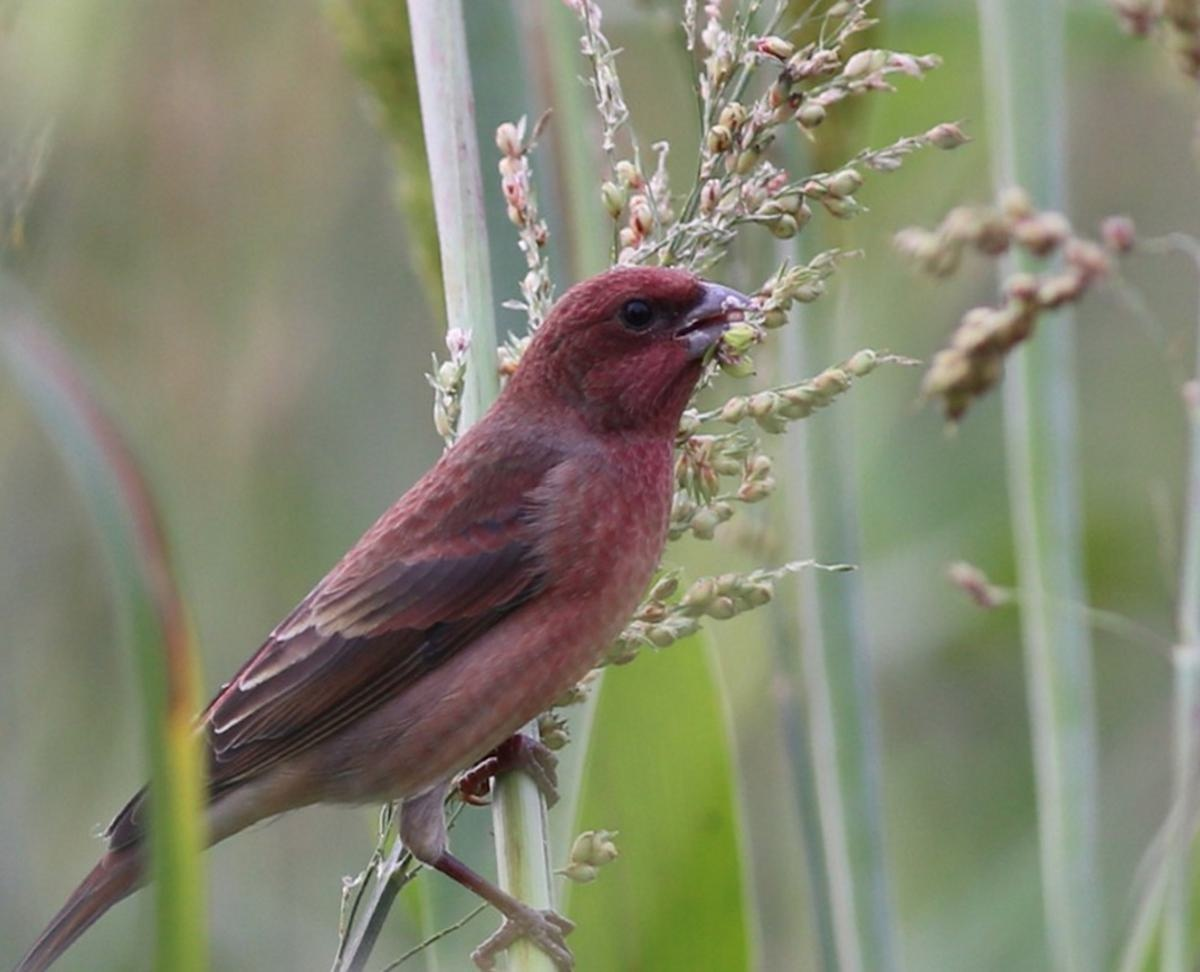rosefinch: (162, 263, 778, 848)
